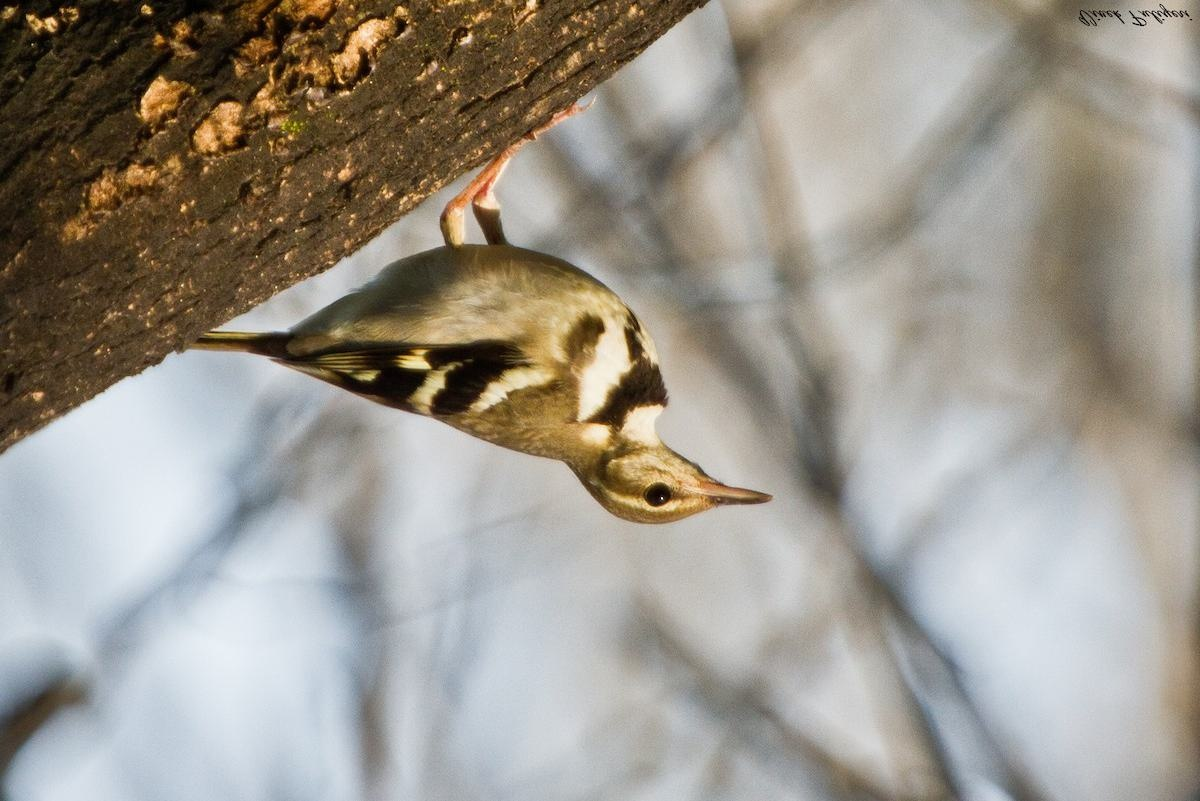wagtail: (283, 166, 776, 537)
